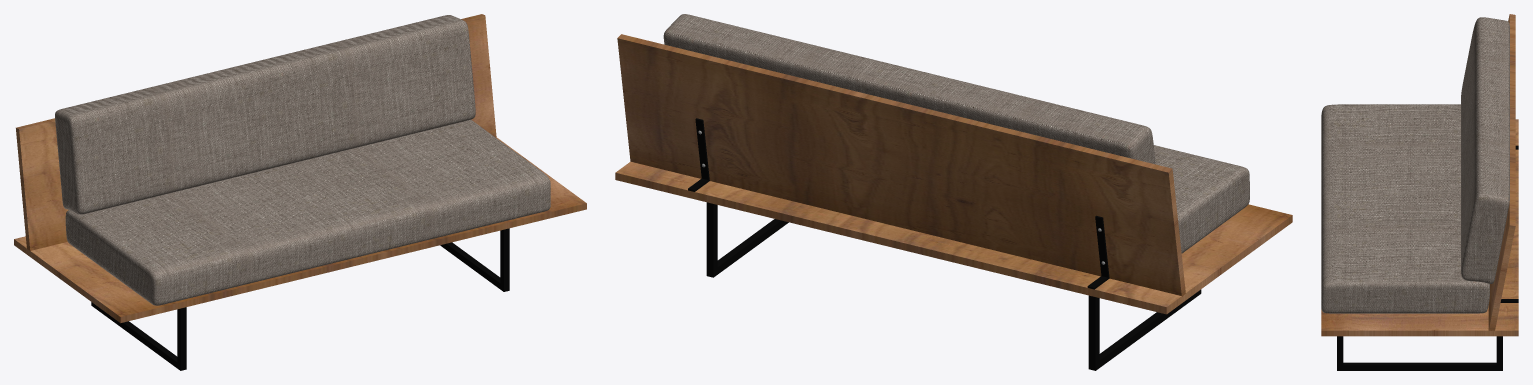
Rendered from couch.gltf.
3 renders of one model, left to right at view 1: azimuth 30°, elevation 25°; view 2: azimuth 150°, elevation 25°; view 3: azimuth 270°, elevation 25°, orthographic. The views are drawn at different scales.
Parts seen in each view (by area): view 1: Box001, Box002, Rectangle686, Rectangle687, Line008, Line007; view 2: Rectangle687, Box002, Rectangle686, Box001, Line008, Line007, Line009, Line005; view 3: Box001, Box002, Rectangle686, Rectangle687, Line007.
Boxes of the visible parts, left/top/right/bottom form: Box001: left=65, top=120, right=550, bottom=305; Box002: left=55, top=15, right=475, bottom=214; Rectangle686: left=14, top=137, right=586, bottom=323; Rectangle687: left=16, top=14, right=496, bottom=250; Line008: left=91, top=302, right=186, bottom=370; Line007: left=440, top=228, right=509, bottom=291; Rectangle687: left=617, top=34, right=1185, bottom=296; Box002: left=663, top=14, right=1155, bottom=164; Rectangle686: left=615, top=161, right=1292, bottom=314; Box001: left=1153, top=145, right=1249, bottom=253; Line008: left=1088, top=289, right=1201, bottom=370; Line007: left=706, top=202, right=788, bottom=277; Line009: left=1087, top=215, right=1109, bottom=289; Line005: left=688, top=118, right=709, bottom=191; Box001: left=1321, top=104, right=1489, bottom=313; Box002: left=1461, top=17, right=1509, bottom=283; Rectangle686: left=1321, top=119, right=1518, bottom=336; Rectangle687: left=1488, top=14, right=1515, bottom=330; Line007: left=1337, top=336, right=1502, bottom=370.
Size of the model in its own units: 1.61 by 0.6764 by 0.635.
4 materials, 2 textured.
